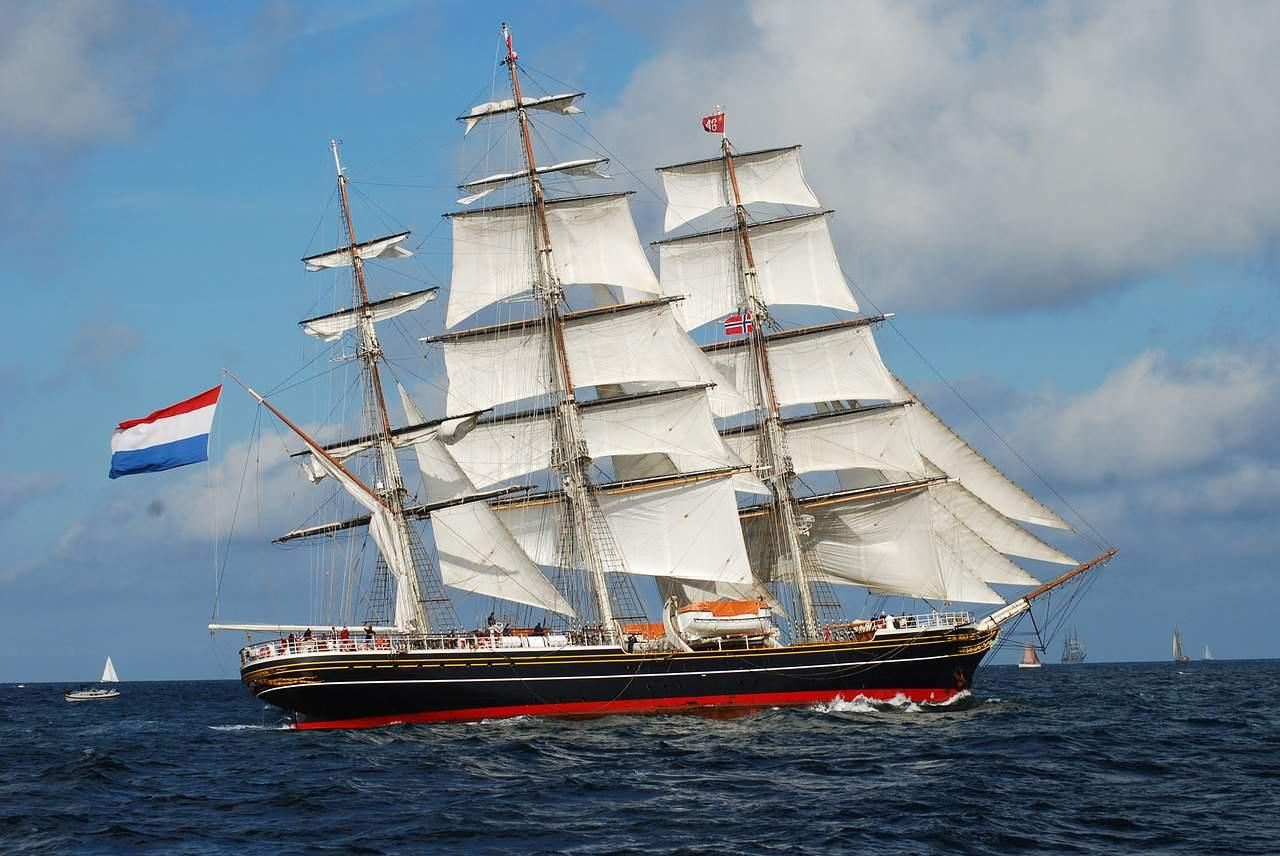Ship: (107, 22, 1121, 731)
